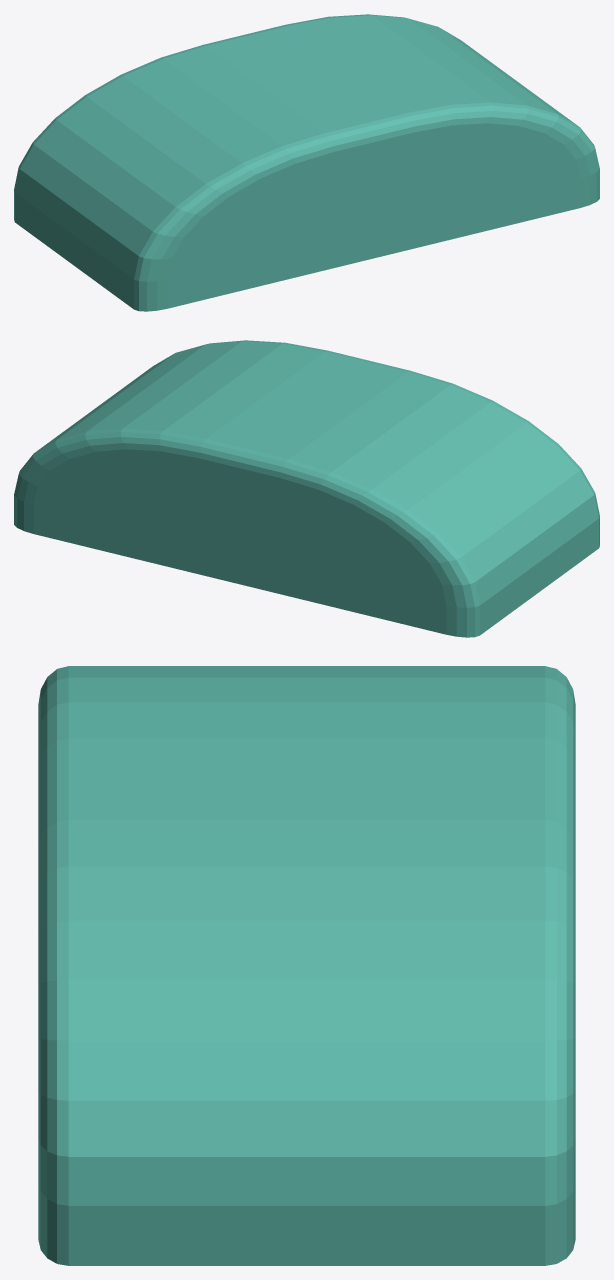
The model's file is paddle_turqoise_metal_noise4.glb.
The picture shows the model from 3 angles, top to bottom: view 1: azimuth 30°, elevation 25°; view 2: azimuth 150°, elevation 25°; view 3: azimuth 270°, elevation 25°; orthographic projection. The views are drawn at different scales.
Visible parts, largest first — view 1: Paddle; view 2: Paddle; view 3: Paddle.
Part boxes in pixels (x1,y1,x2,y2): Paddle: (14, 14, 599, 311); Paddle: (14, 340, 599, 637); Paddle: (38, 666, 575, 1265).
Bounding box in the file's own units: 4 × 1.07 × 2.
